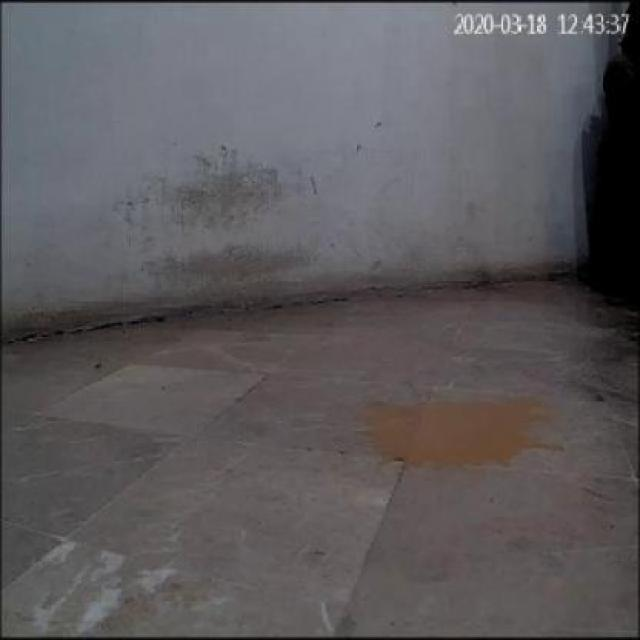spillage: (366, 399, 563, 467)
